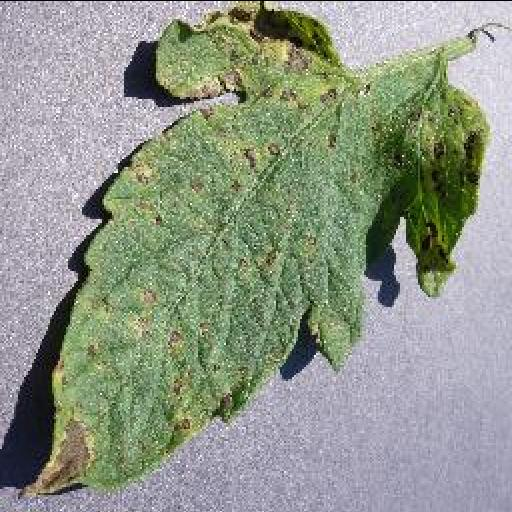disease_tomato: (20, 0, 486, 500)
